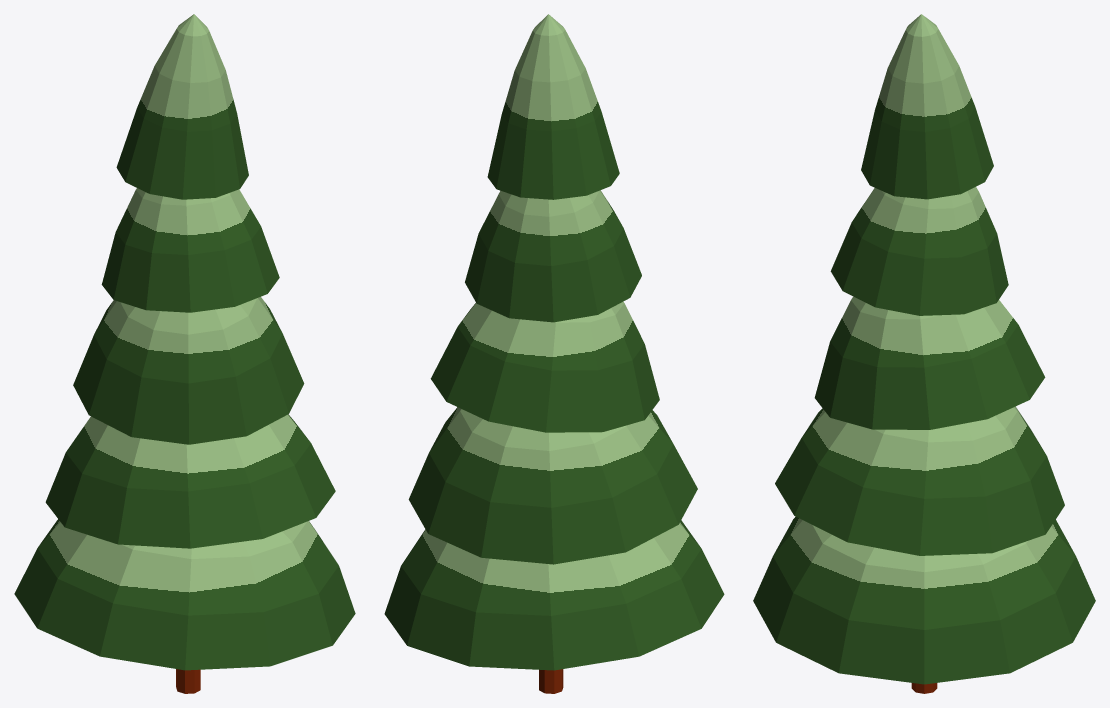
Rendered from FirTree.glb.
The picture shows the model from 3 angles, left to right: view 1: azimuth 30°, elevation 25°; view 2: azimuth 150°, elevation 25°; view 3: azimuth 270°, elevation 25°; orthographic projection.
Parts seen in each view (by area): view 1: Tree.088; view 2: Tree.088; view 3: Tree.088.
Part boxes in pixels (bbox=[...]): Tree.088: bbox=[14, 14, 355, 693]; Tree.088: bbox=[384, 14, 724, 693]; Tree.088: bbox=[753, 14, 1095, 693].
Size of the model in its own units: 1.57 by 3.44 by 1.58.
1 material, 1 textured.
